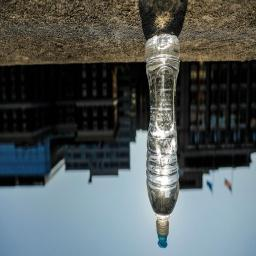plastic: (146, 34, 180, 247)
